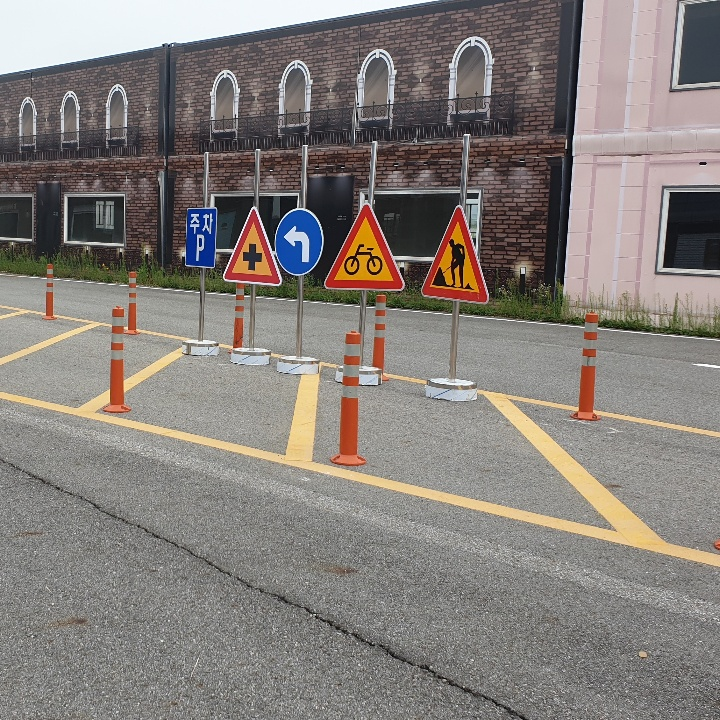bicycle: (325, 205, 403, 290)
const: (427, 235, 479, 294)
inter: (236, 239, 267, 278)
left: (280, 220, 315, 264)
parking: (188, 230, 210, 264)
